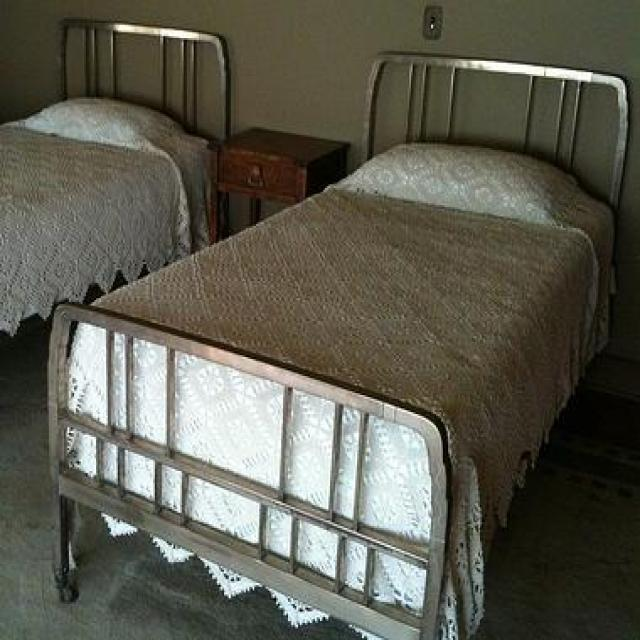bed: (45, 49, 630, 640)
